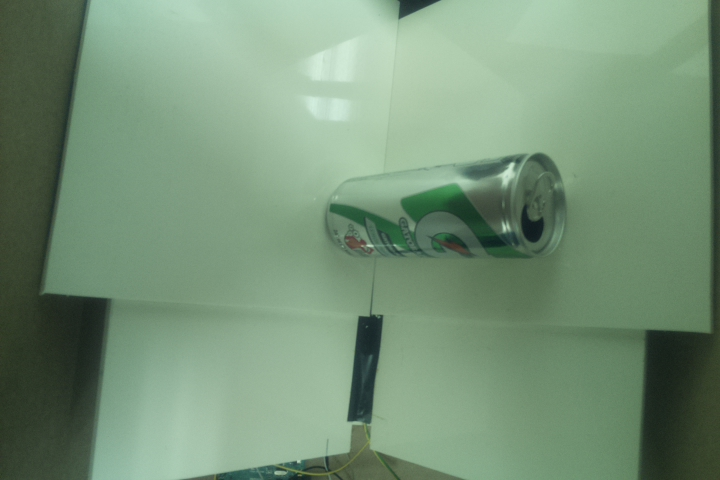can: (325, 148, 569, 264)
